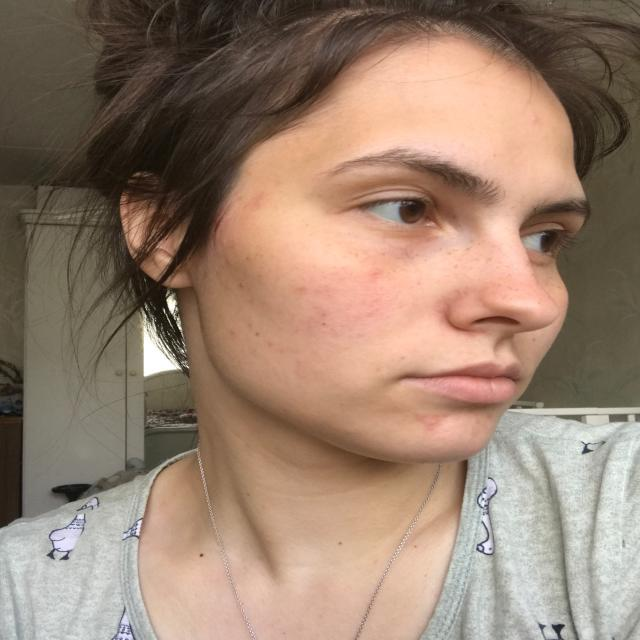acne: (414, 410, 447, 432), (244, 192, 272, 212), (528, 108, 542, 129), (366, 264, 384, 280), (292, 284, 312, 296), (228, 328, 238, 338)
pores: (314, 288, 404, 324)
